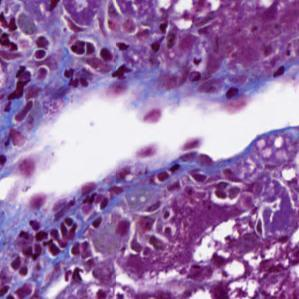inflammation: (0, 6, 59, 67), (70, 31, 117, 63)
